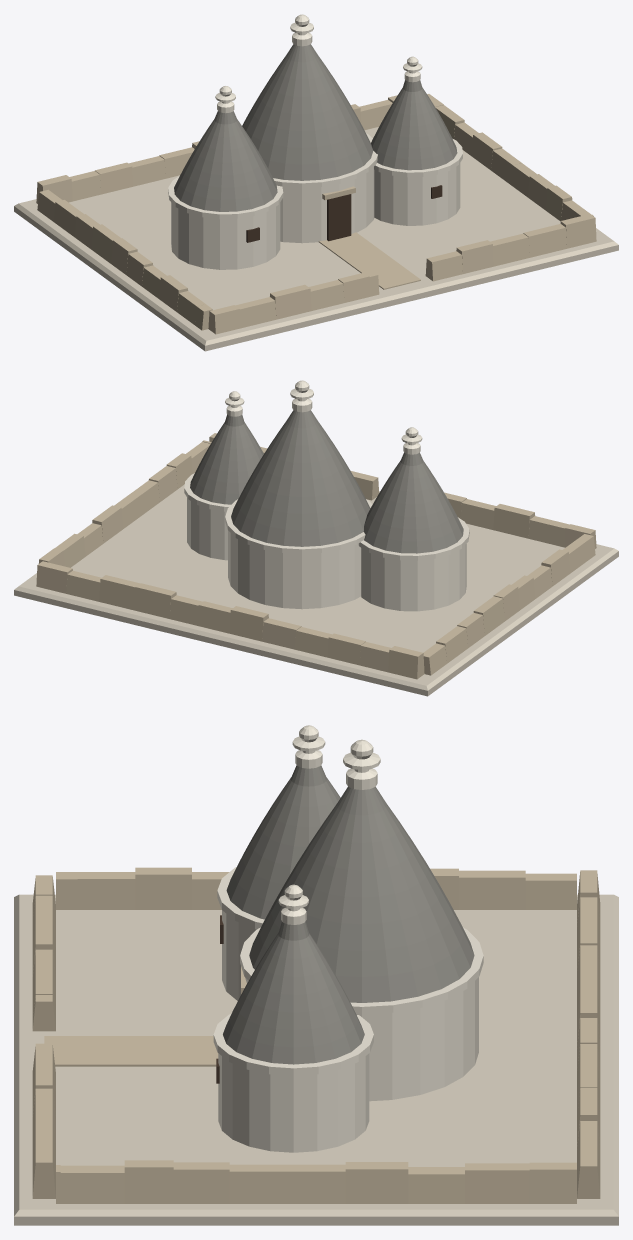
The model's file is modello.glb.
3 views of the same model, one above another, from view 1: azimuth 30°, elevation 25°; view 2: azimuth 150°, elevation 25°; view 3: azimuth 270°, elevation 25° (orthographic). The views are drawn at different scales.
Parts seen in each view (by area): view 1: Trullo di Prova; view 2: Trullo di Prova; view 3: Trullo di Prova.
Boxes of the visible parts, x1,y1,x2,y2 form: Trullo di Prova: [14, 14, 618, 351]; Trullo di Prova: [14, 380, 618, 696]; Trullo di Prova: [14, 725, 618, 1225].
Size of the model in its own units: 0.3 by 0.1422 by 0.24.
